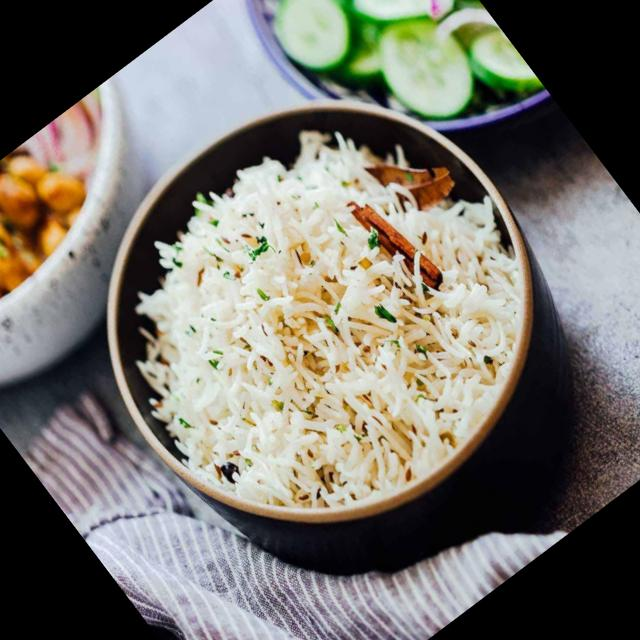rice: (155, 138, 520, 508)
